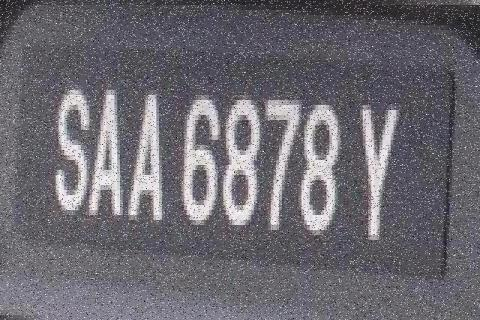LicensePlate: (15, 30, 461, 296)
